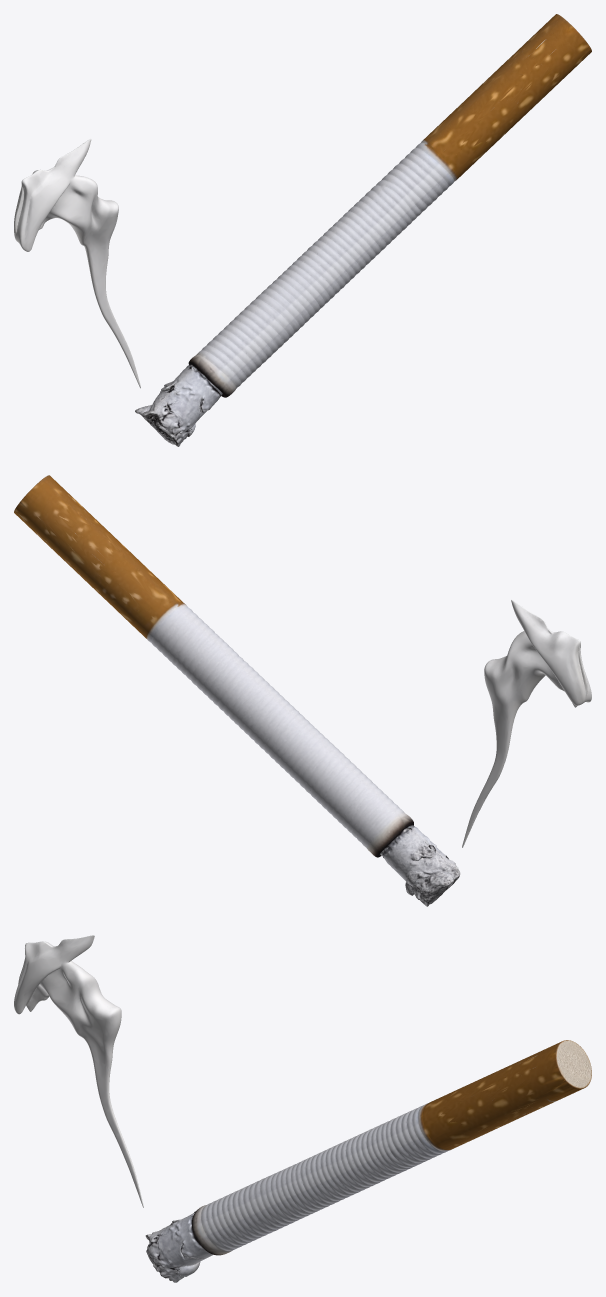
File: cigarette.glb
3 renders of one model, top to bottom at view 1: azimuth 30°, elevation 25°; view 2: azimuth 150°, elevation 25°; view 3: azimuth 330°, elevation 25°, orthographic.
Visible parts, largest first — view 1: Mesh_0; view 2: Mesh_0; view 3: Mesh_0.
Part boxes in pixels (left/top/right/bottom): Mesh_0: left=14, top=14, right=591, bottom=446; Mesh_0: left=14, top=475, right=591, bottom=906; Mesh_0: left=14, top=935, right=591, bottom=1282.
Bounding box in the file's own units: 2.14 × 1.2 × 0.1753.
1 material, 1 textured.
